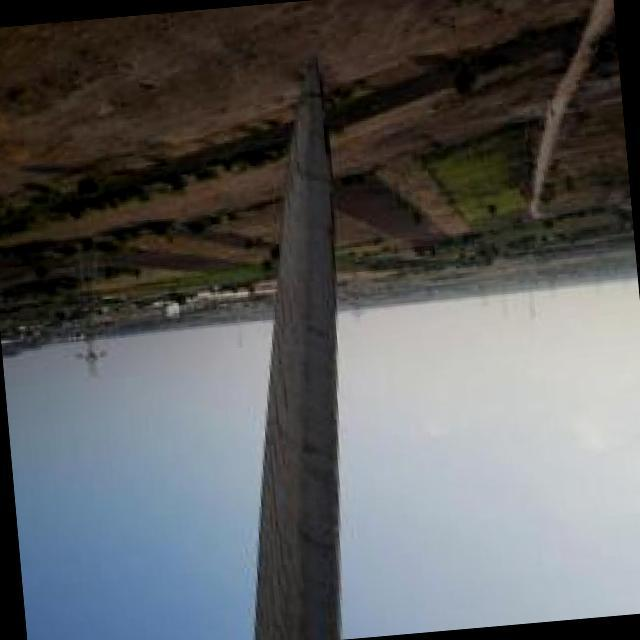Dirt: (245, 70, 345, 638)
Oil LEAKAGE: (309, 59, 343, 272)
